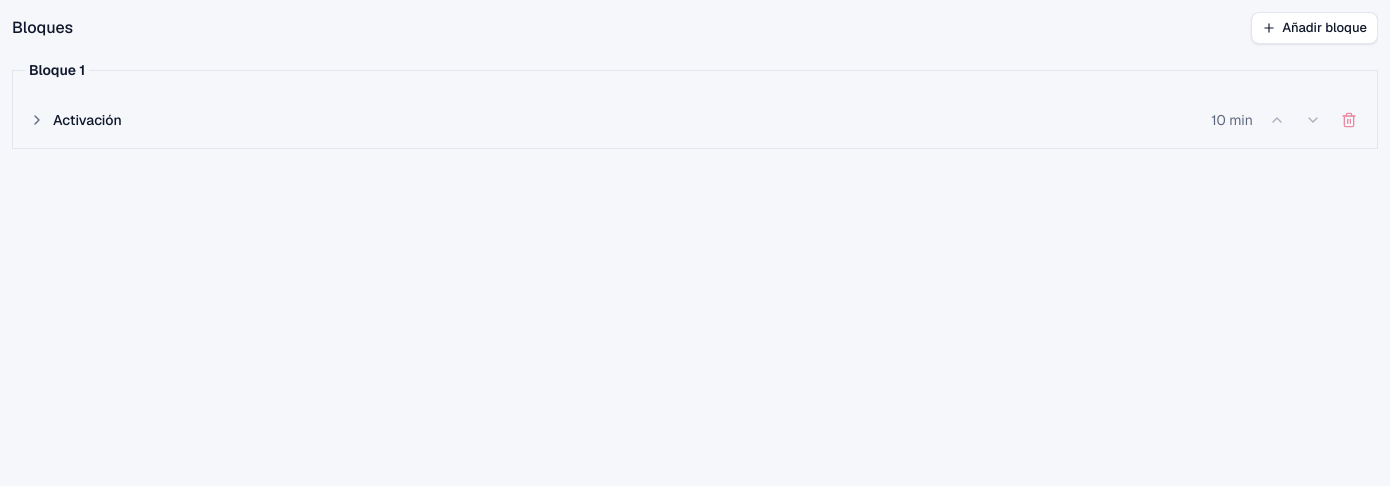
it: SesionBloquesEditor › explica dónde crear documentos cuando no hay ninguno disponible
Step 1. Click the button with aria-label "expandir bloque 1" → (87, 120), box x1=25 y1=106 x2=1257 y2=134
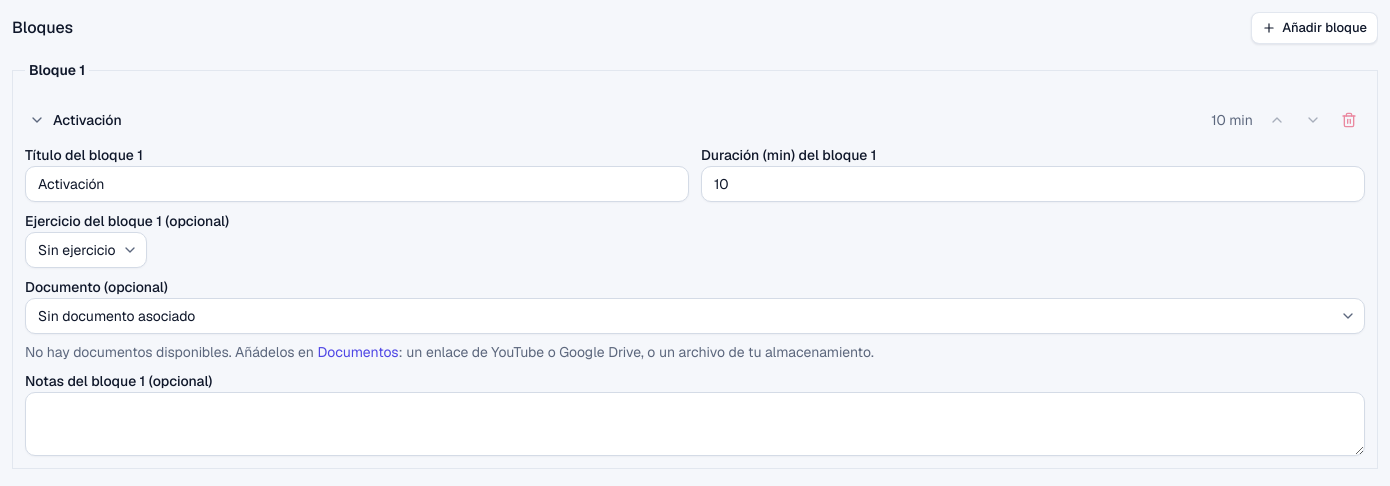
Expected: the text "No hay documentos disponibles" is shown, x1=25 y1=343 x2=314 y2=361
